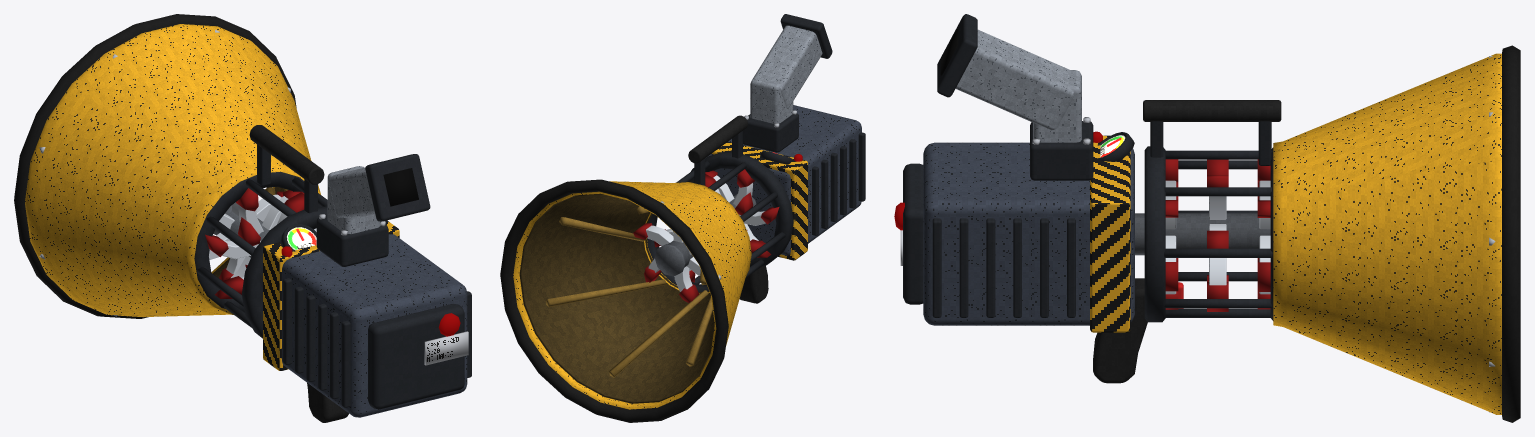
The model's file is w_shredder.glb.
3 renders of one model, left to right at view 1: azimuth 30°, elevation 25°; view 2: azimuth 150°, elevation 25°; view 3: azimuth 270°, elevation 25°, orthographic. The views are drawn at different scales.
Visible parts, largest first — view 1: sd_works_wzB, sd_motor_wzA, sd_trim_wzN, sh_teeth_wzN; view 2: sd_works_wzB, sd_trim_wzN, sd_motor_wzA, sh_teeth_wzN; view 3: sd_works_wzB, sd_motor_wzA, sh_teeth_wzN, sd_trim_wzN.
Part boxes in pixels (x1,y1,x2,y2): sd_works_wzB: (14, 14, 471, 409); sd_motor_wzA: (249, 125, 467, 422); sd_trim_wzN: (39, 29, 468, 370); sh_teeth_wzN: (205, 188, 316, 298); sd_works_wzB: (500, 14, 865, 422); sd_trim_wzN: (519, 110, 807, 403); sd_motor_wzA: (688, 105, 861, 303); sh_teeth_wzN: (633, 169, 779, 304); sd_works_wzB: (903, 14, 1520, 422); sd_motor_wzA: (923, 100, 1281, 383); sh_teeth_wzN: (1135, 159, 1270, 311); sd_trim_wzN: (900, 29, 1495, 412).
Size of the model in its own units: 0.464 by 0.511 by 0.7695.
Materials: 19 (13 with a texture image).
